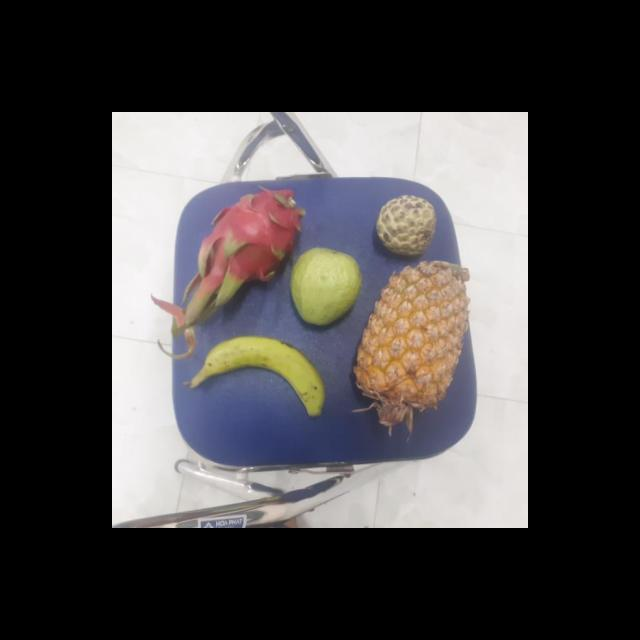Sakya fruit: (373, 195, 436, 257)
banana: (185, 338, 328, 412)
guava: (286, 248, 360, 324)
pineapple: (354, 262, 466, 409)
pitaya: (200, 188, 300, 288)
